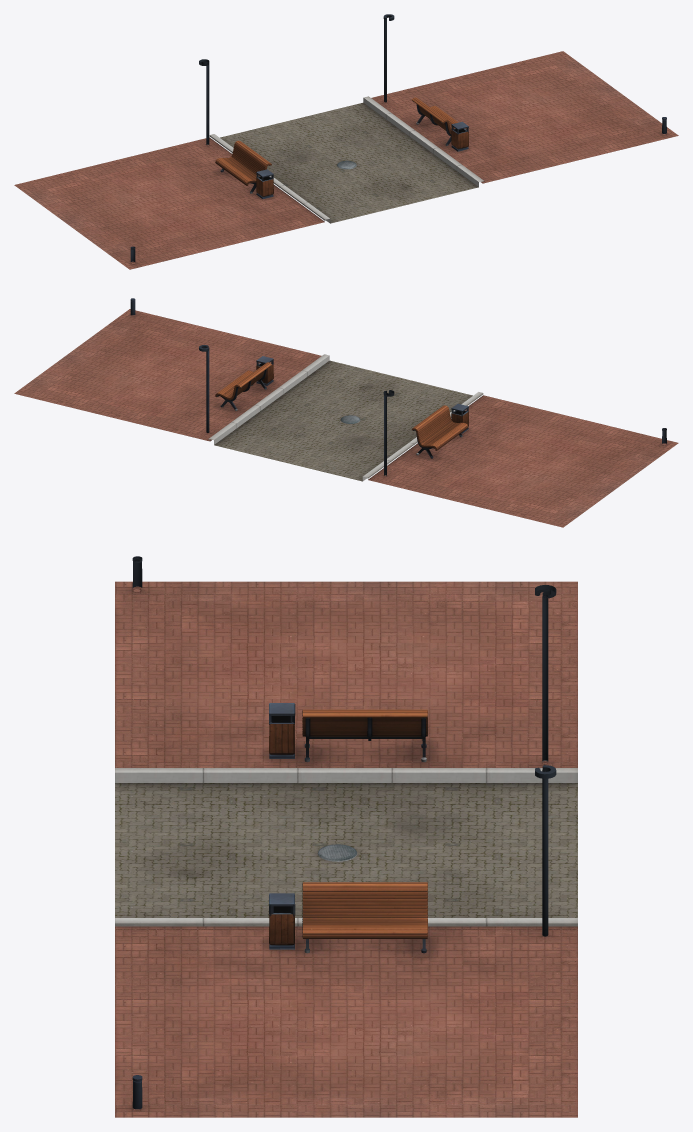
File: street_7.glb
3 renders of one model, top to bottom at view 1: azimuth 30°, elevation 25°; view 2: azimuth 150°, elevation 25°; view 3: azimuth 270°, elevation 25°, orthographic. The views are drawn at different scales.
Visible parts, largest first — view 1: street_7; view 2: street_7; view 3: street_7.
Part boxes in pixels (x1,y1,x2,y2): street_7: (14,14,678,269); street_7: (14,298,678,527); street_7: (115,556,577,1117).
Size of the model in its own units: 21.91 by 3.36 by 8.
Materials: 1 (1 with a texture image).
